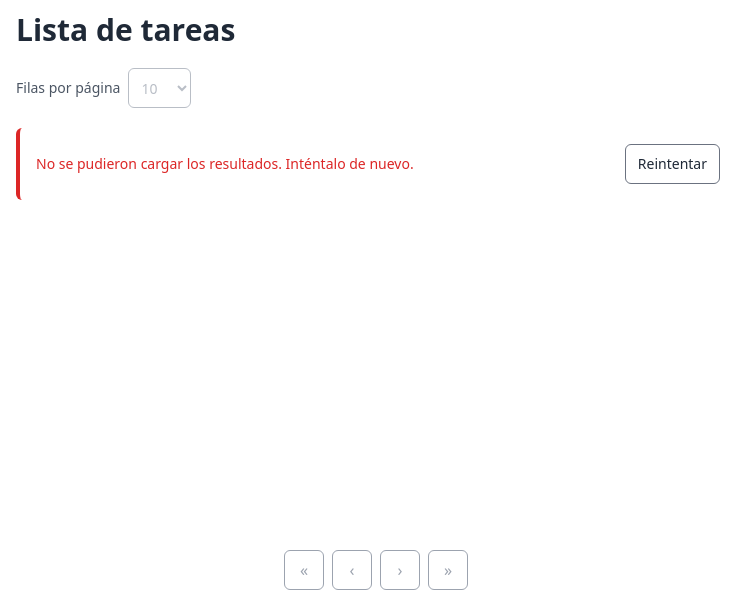
Test case: A4 — estados de pantalla › error muestra el mensaje del spec y un botón de reintento que funciona
Click the button "Reintentar".
click(672, 164)  # box [625, 144, 720, 184]
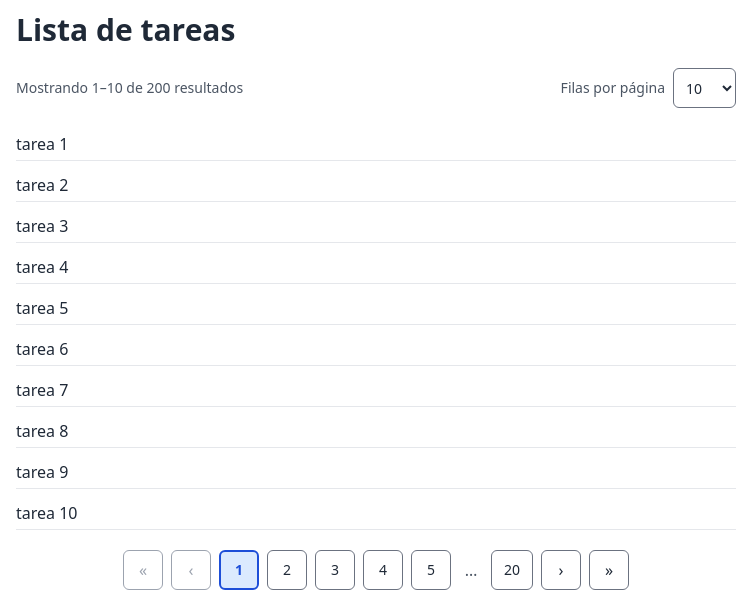
Expected: the text "Mostrando 1–10 de 200 resultados" is shown, [16, 78, 243, 98]
